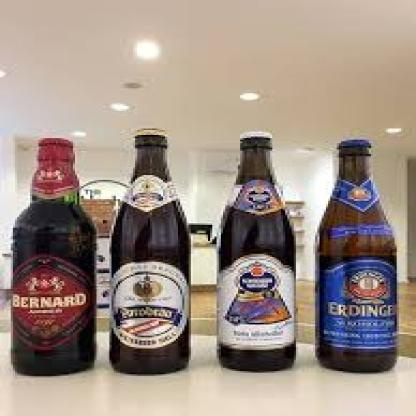trash: (11, 138, 95, 374), (110, 129, 189, 373), (217, 132, 295, 370), (316, 139, 396, 371)
